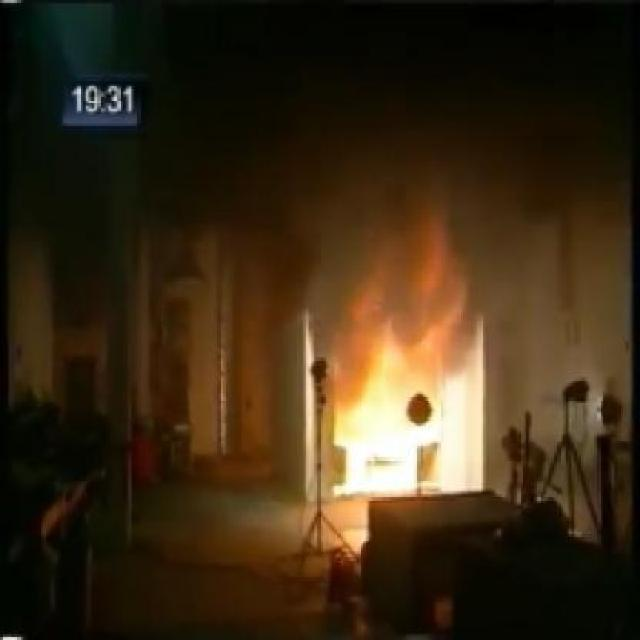fire: (334, 193, 473, 493)
